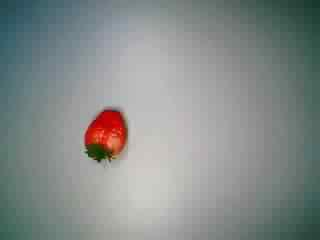strawberry: (75, 101, 143, 165)
